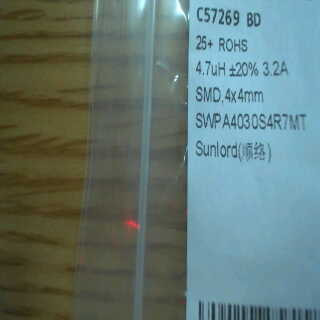4.7uH: (194, 57, 230, 78)
